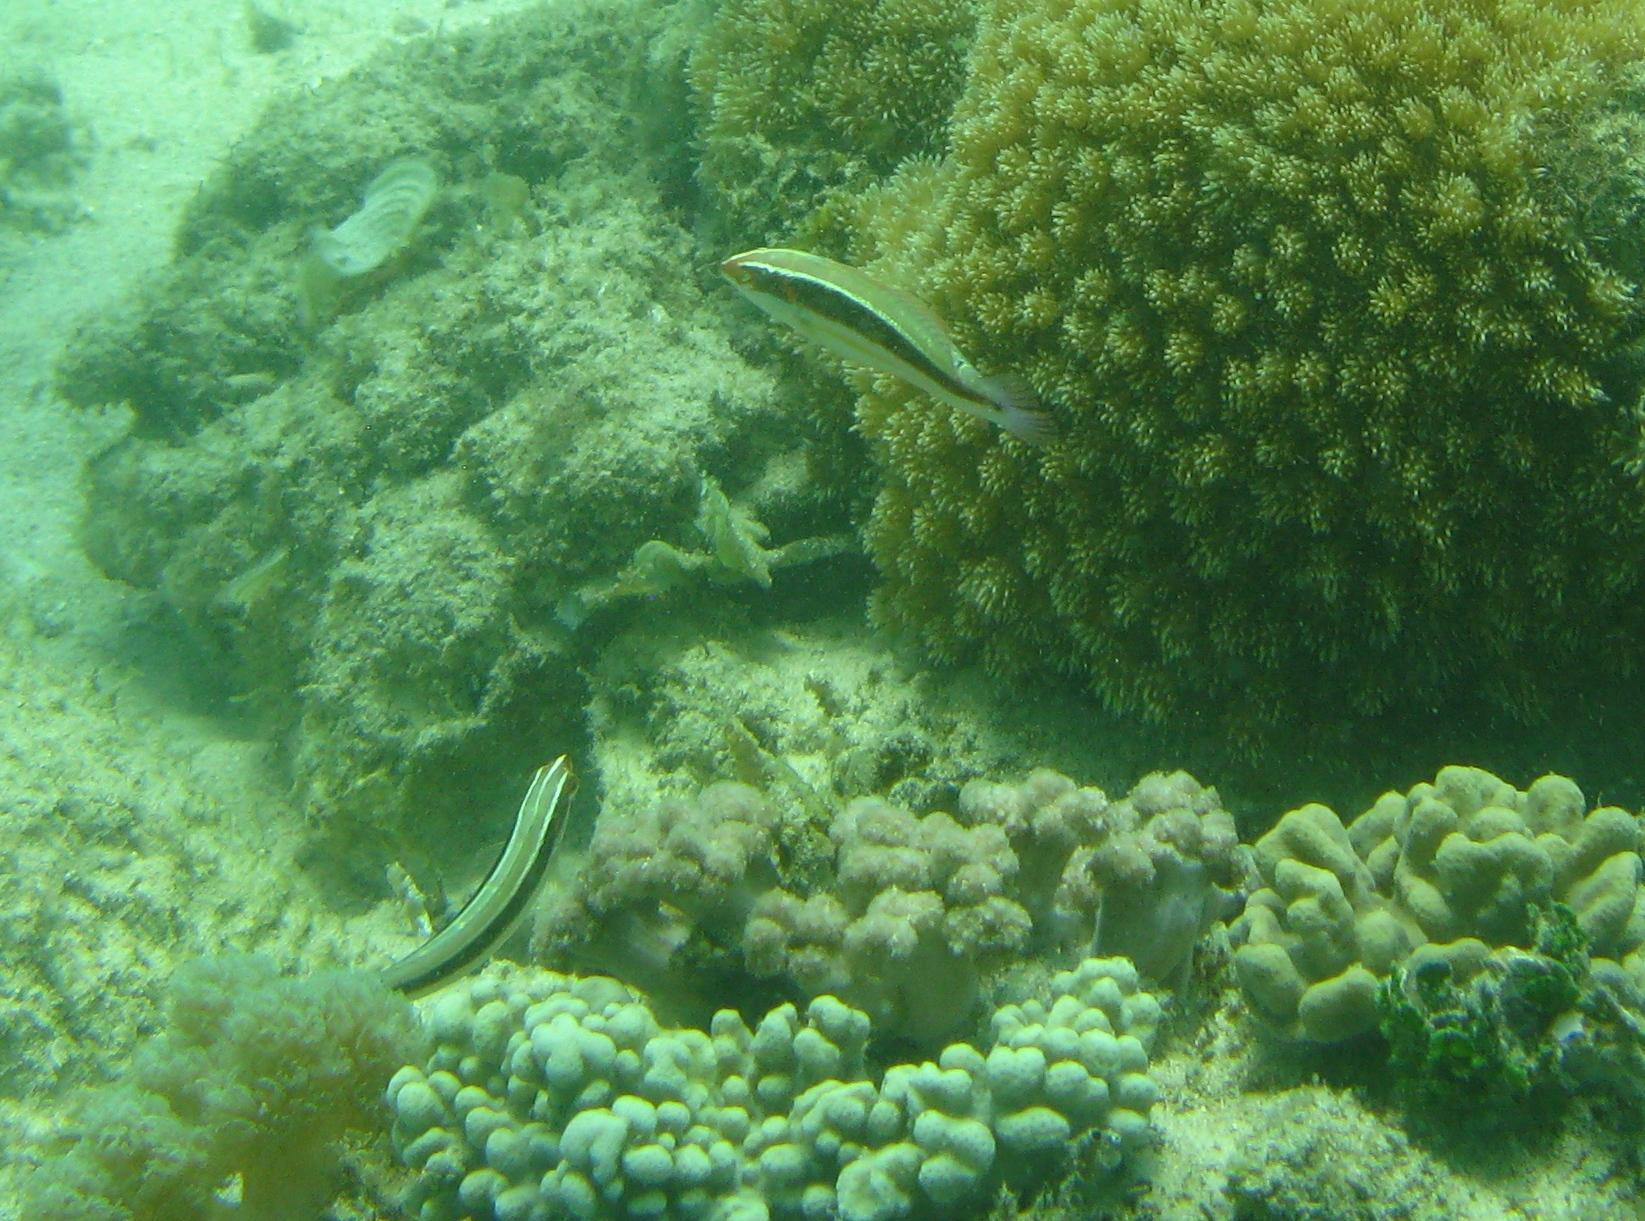Fish: (674, 208, 1083, 484)
